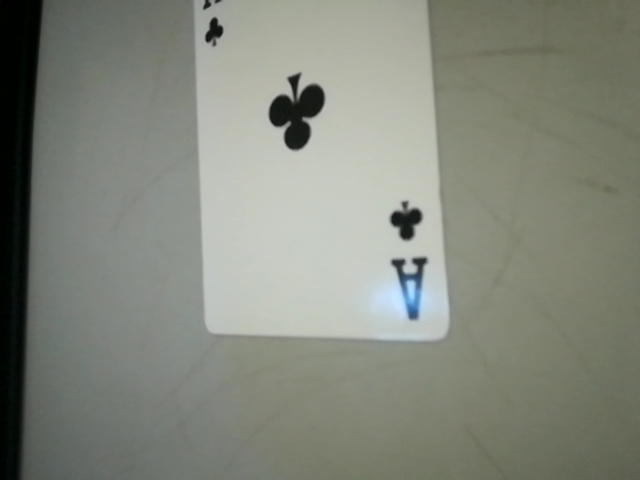mh a: (370, 187, 443, 334)
